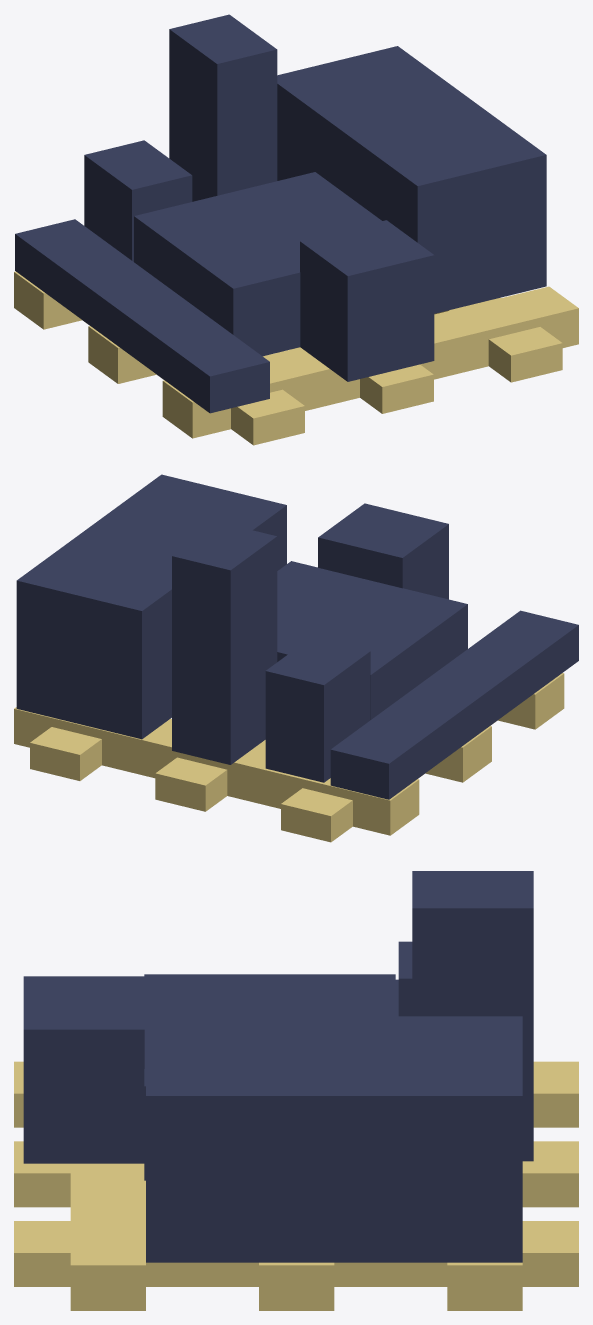
The model's file is Blocks.fbx.
The picture shows the model from 3 angles, top to bottom: view 1: azimuth 30°, elevation 25°; view 2: azimuth 150°, elevation 25°; view 3: azimuth 270°, elevation 25°; orthographic projection. The views are drawn at different scales.
Visible parts, largest first — view 1: Cube.043; view 2: Cube.043; view 3: Cube.043.
Boxes of the visible parts, <box> form: Cube.043: <box>14,14,578,445</box>; Cube.043: <box>14,474,578,842</box>; Cube.043: <box>14,871,578,1310</box>.
Size of the model in its own units: 300 by 176 by 300.
